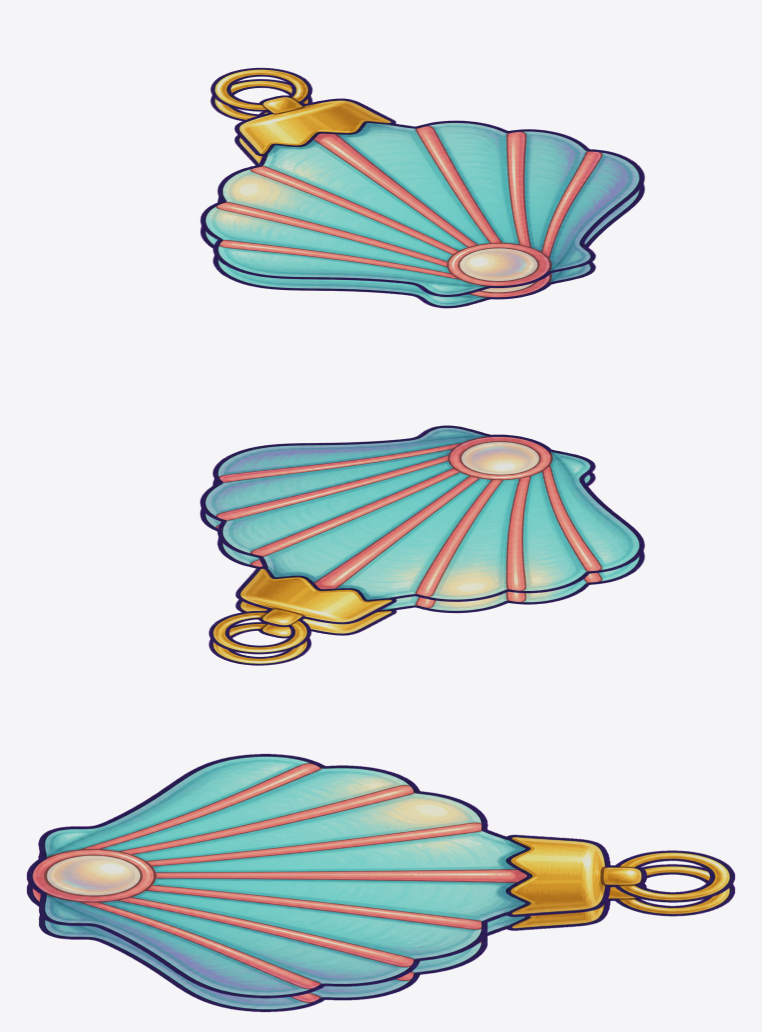
File: orn3.glb
The picture shows the model from 3 angles, top to bottom: view 1: azimuth 30°, elevation 25°; view 2: azimuth 150°, elevation 25°; view 3: azimuth 270°, elevation 25°; orthographic projection. The views are drawn at different scales.
Visible parts, largest first — view 1: orn3; view 2: orn3; view 3: orn3.
Part boxes in pixels (box(x1,y1,x2,y2)): orn3: box(200, 67, 644, 308); orn3: box(200, 425, 644, 665); orn3: box(27, 754, 734, 1011).
Size of the model in its own units: 2 by 0.05 by 2.43.
1 material, 1 textured.
